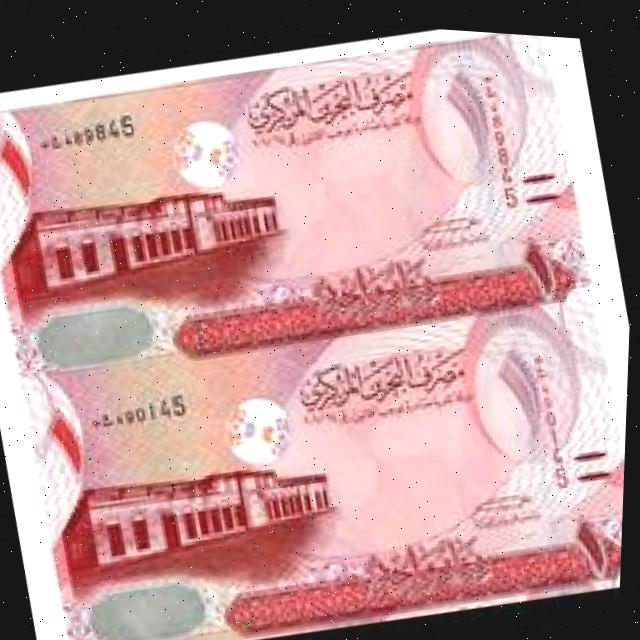banknote: (0, 258, 633, 640), (0, 101, 30, 388)
